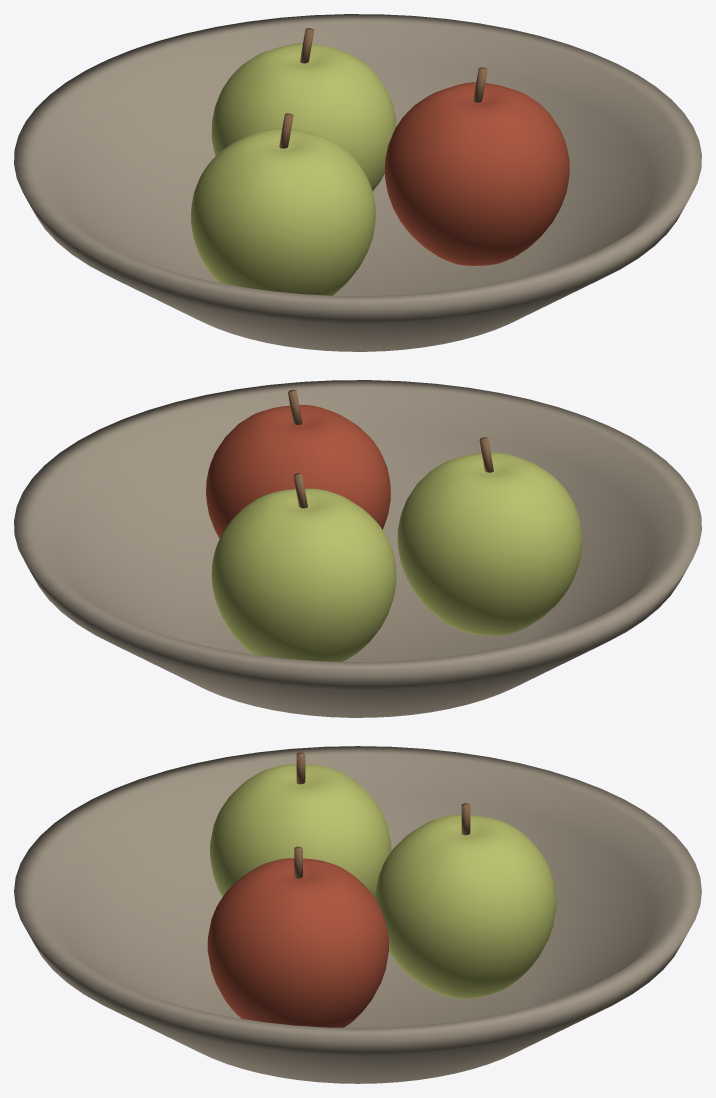
Rendered from traditional.fruit_bowl.gltf.
The picture shows the model from 3 angles, top to bottom: view 1: azimuth 30°, elevation 25°; view 2: azimuth 150°, elevation 25°; view 3: azimuth 270°, elevation 25°; orthographic projection.
Parts seen in each view (by area): view 1: traditional.fruit_bowl.stoneware; view 2: traditional.fruit_bowl.stoneware; view 3: traditional.fruit_bowl.stoneware.
Boxes of the visible parts, left/top/right/bottom form: traditional.fruit_bowl.stoneware: left=14, top=14, right=701, bottom=351; traditional.fruit_bowl.stoneware: left=14, top=380, right=701, bottom=717; traditional.fruit_bowl.stoneware: left=14, top=746, right=701, bottom=1083.
Bounding box in the file's own units: 0.3 × 0.0983 × 0.3.
4 materials, 1 textured.
